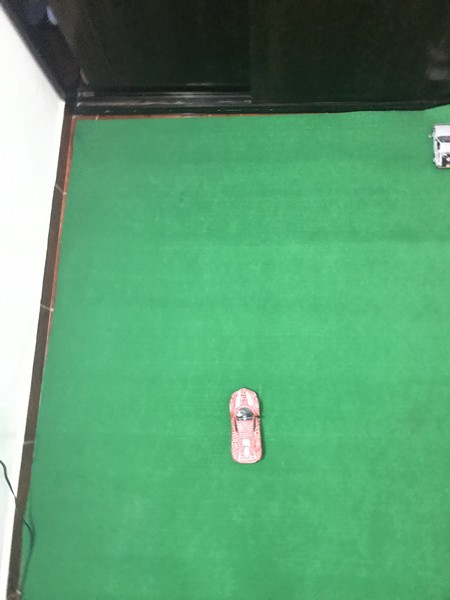RC: (228, 386, 266, 465)
